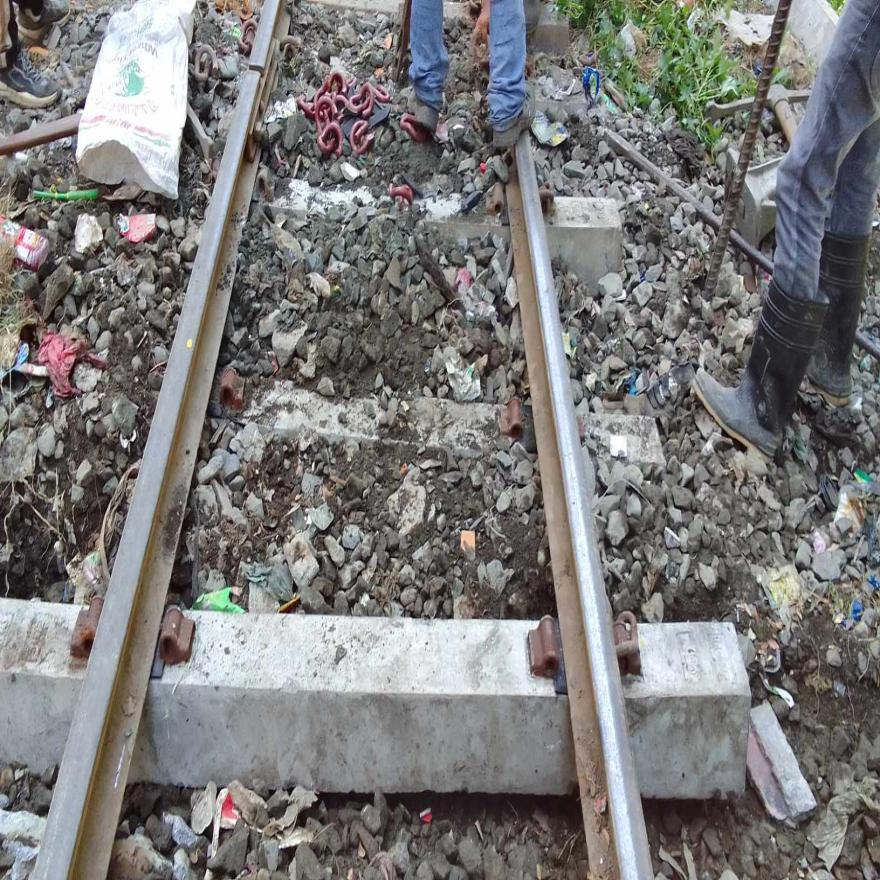railway-gap: (234, 36, 274, 103)
